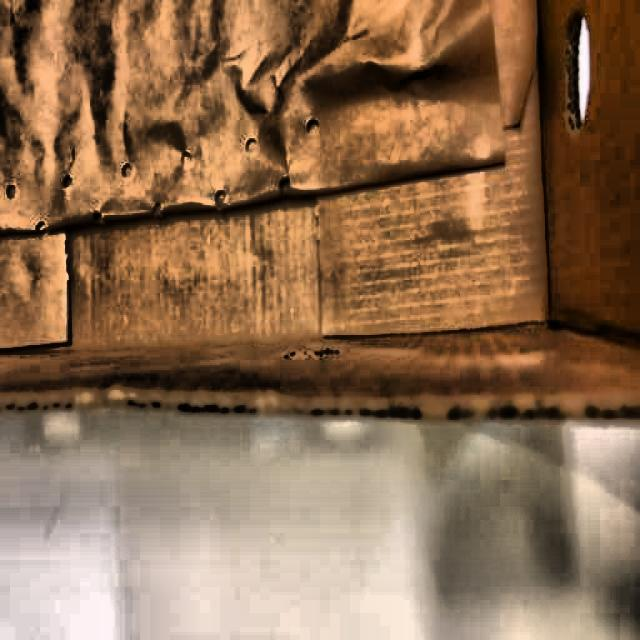cardboard: (2, 0, 640, 450)
